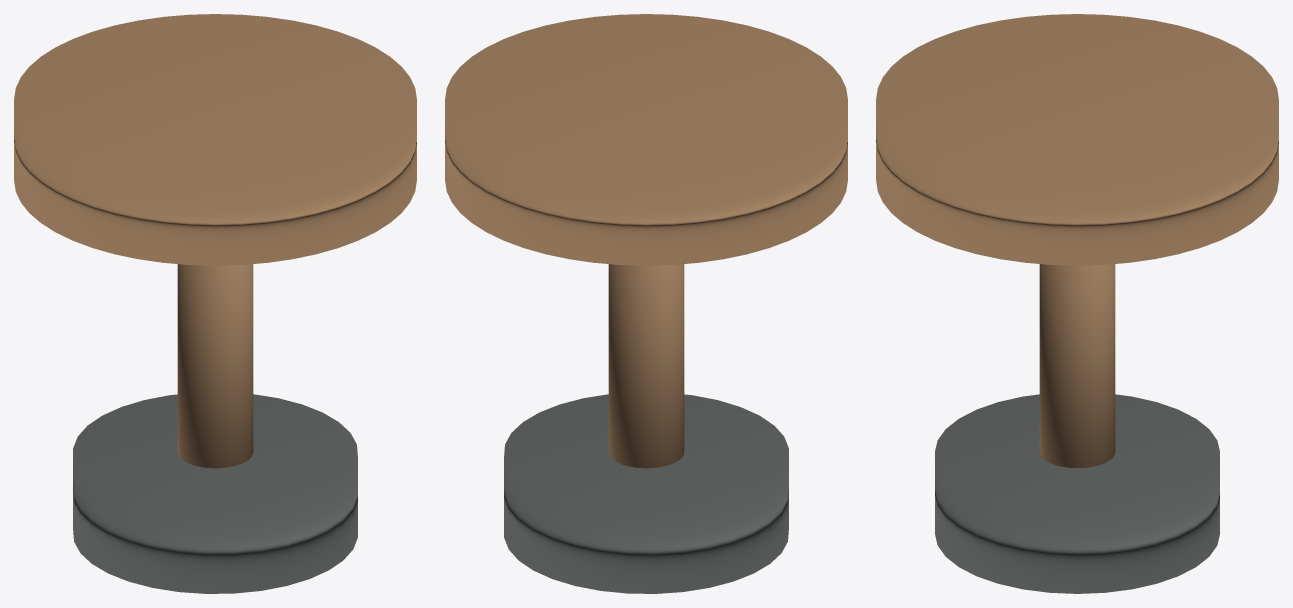
File: mesa-lateral-noma.glb
3 views of the same model, side by side, from view 1: azimuth 30°, elevation 25°; view 2: azimuth 150°, elevation 25°; view 3: azimuth 270°, elevation 25° (orthographic).
Visible parts, largest first — view 1: Tampo redondo, Base circular, Coluna central; view 2: Tampo redondo, Base circular, Coluna central; view 3: Tampo redondo, Base circular, Coluna central.
Part boxes in pixels (box(x1,y1,x2,y2)): Tampo redondo: box(14, 14, 416, 265); Base circular: box(73, 394, 357, 593); Coluna central: box(177, 264, 253, 468); Tampo redondo: box(445, 14, 847, 265); Base circular: box(504, 394, 788, 593); Coluna central: box(608, 264, 684, 468); Tampo redondo: box(876, 14, 1278, 265); Base circular: box(935, 394, 1219, 593); Coluna central: box(1039, 264, 1115, 468).
Bounding box in the file's own units: 0.4032 × 0.48 × 0.4032.
